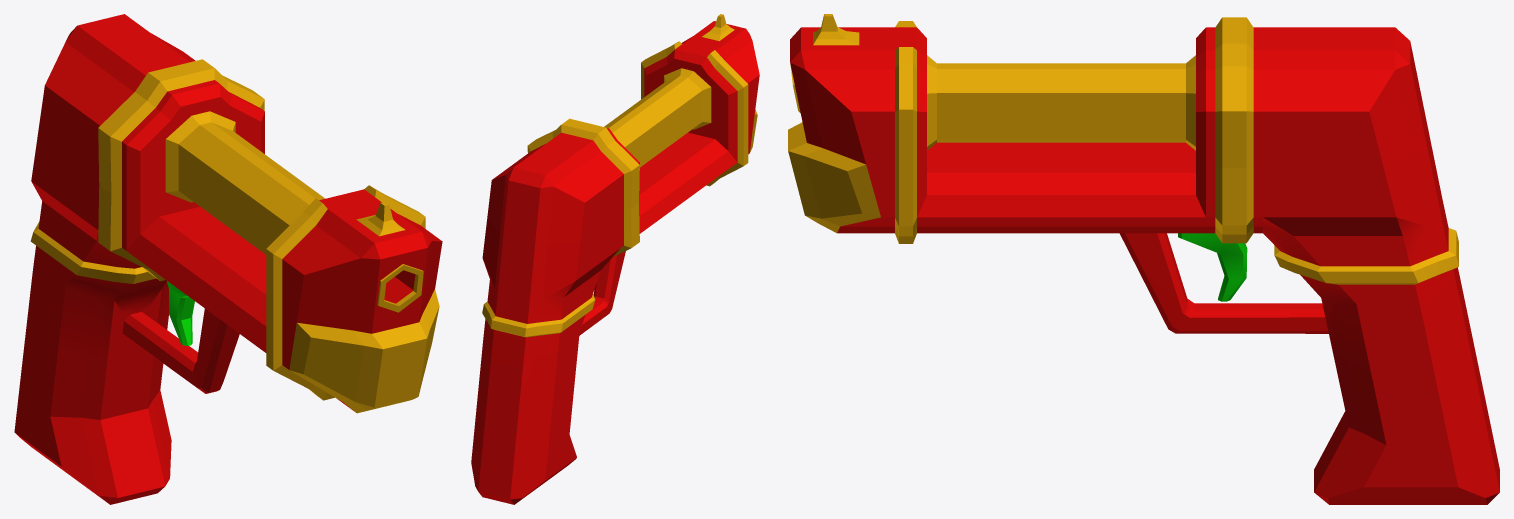
The model's file is Pistol.fbx.
The picture shows the model from 3 angles, left to right: view 1: azimuth 30°, elevation 25°; view 2: azimuth 150°, elevation 25°; view 3: azimuth 270°, elevation 25°; orthographic projection. The views are drawn at different scales.
Visible parts, largest first — view 1: PlayerWeapon_Pistol; view 2: PlayerWeapon_Pistol; view 3: PlayerWeapon_Pistol.
Part boxes in pixels (box(x1,y1,x2,y2)): PlayerWeapon_Pistol: box(14, 14, 442, 504); PlayerWeapon_Pistol: box(471, 14, 759, 504); PlayerWeapon_Pistol: box(788, 14, 1499, 504).
Size of the model in its own units: 0.0789 by 0.234 by 0.3156.
